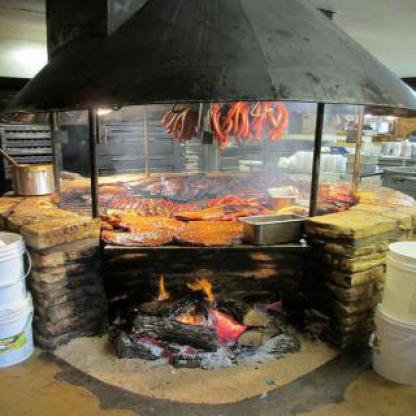Fire: (143, 274, 226, 315)
